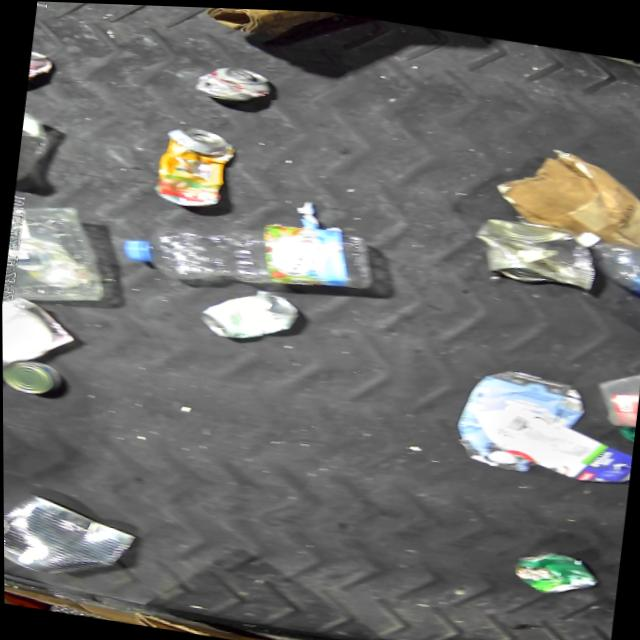can: (3, 485, 141, 587), (466, 207, 603, 290), (148, 119, 240, 212), (193, 278, 303, 348), (508, 540, 601, 596), (190, 57, 276, 106), (2, 354, 64, 399), (27, 47, 56, 88)
plastic_bottle: (115, 192, 378, 307), (566, 222, 640, 302)
